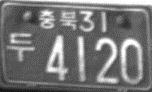0: (119, 37, 143, 85)
1: (70, 36, 91, 82), (96, 10, 110, 33)
2: (94, 36, 118, 84)
3: (79, 10, 94, 32)
4: (44, 34, 68, 80)
두: (6, 32, 35, 62)
충북_O: (38, 9, 78, 30)
